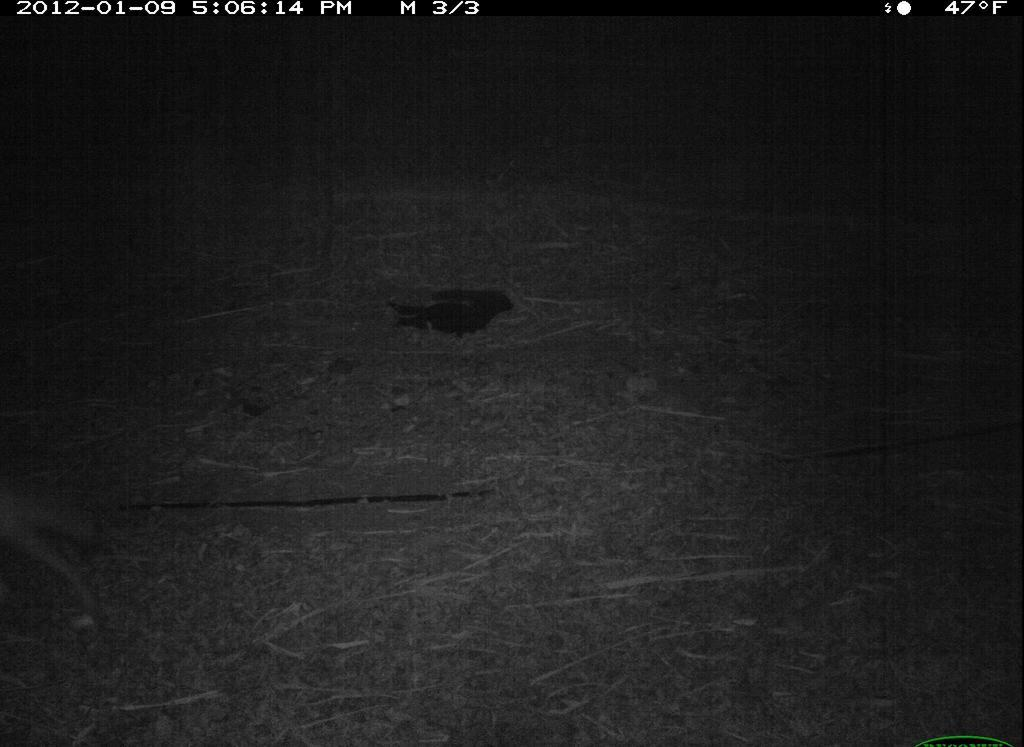coyote: (1, 445, 166, 628)
